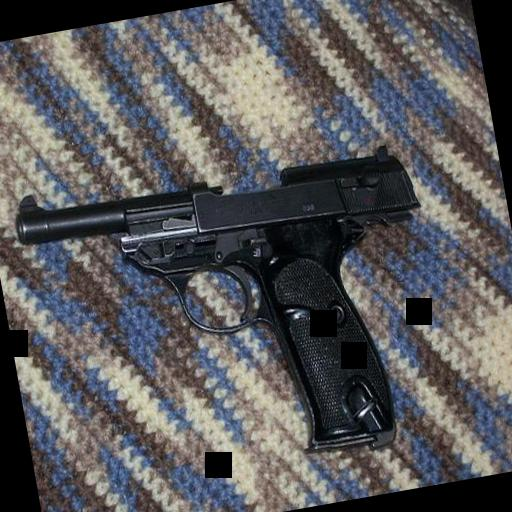Handgun: (8, 124, 460, 502)
